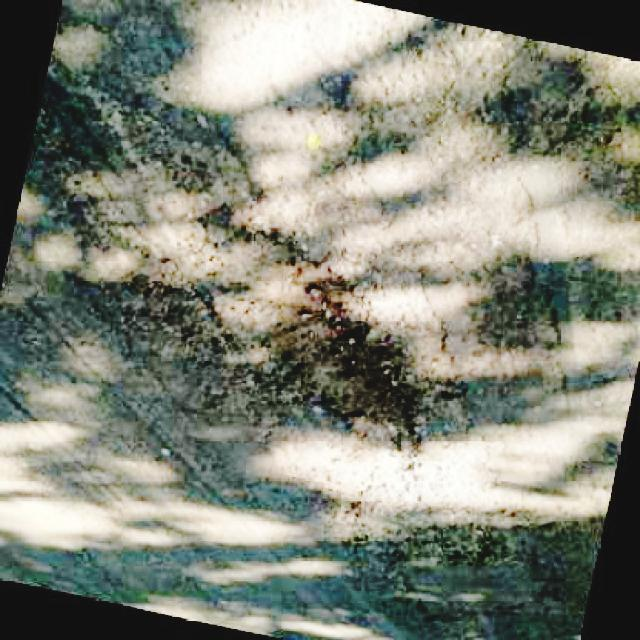pothole: (235, 232, 428, 460)
